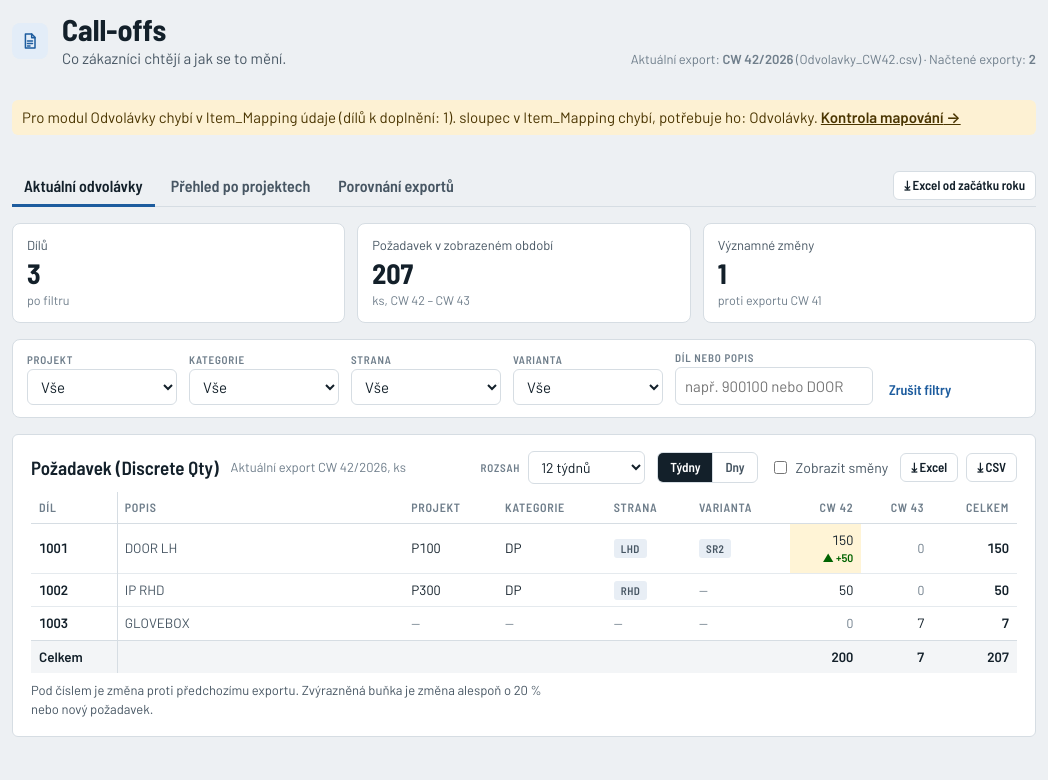
it: CallOffsPage › přepne na dny
This screenshot has width=1048, height=780.
Step 1. Click the button "Dny" → (735, 468), box [712,453,757,482]
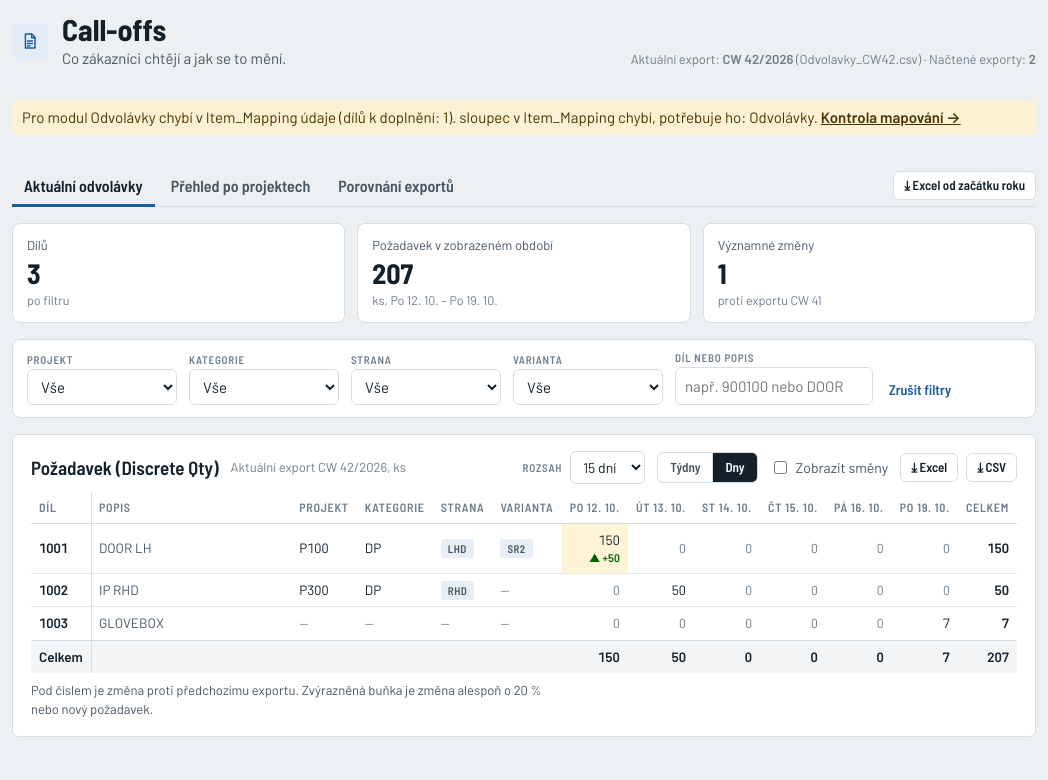
Expected: the column heading "Po 12. 10." is shown, [562,492,628,524]
